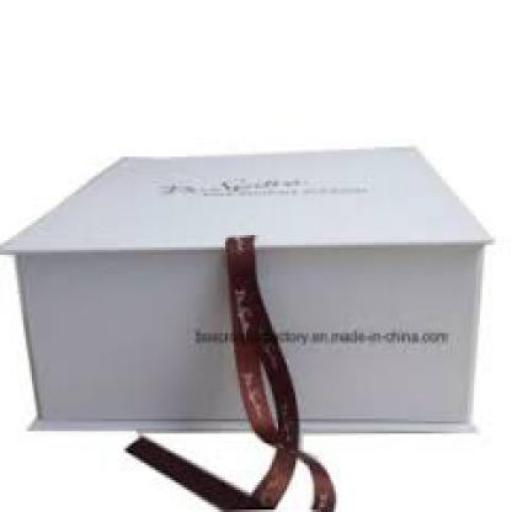cardboard: (0, 145, 491, 429)
